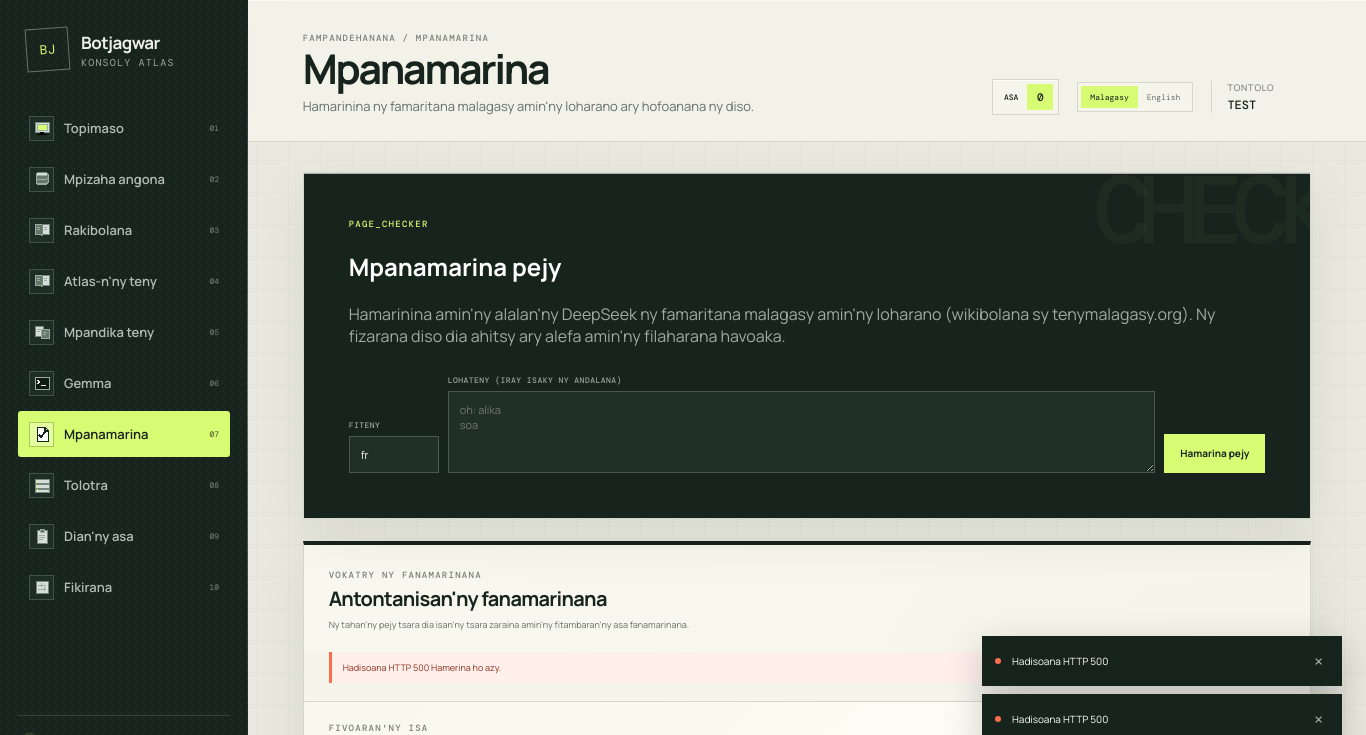
Test: App page-check route › restores a job-center target from the checker hash
Expected: the field labelled "Fiteny" holds "fr", [349,436,439,473]
Step 1. Click the button "01 Topimaso" → (124,128), box [18,105,230,151]
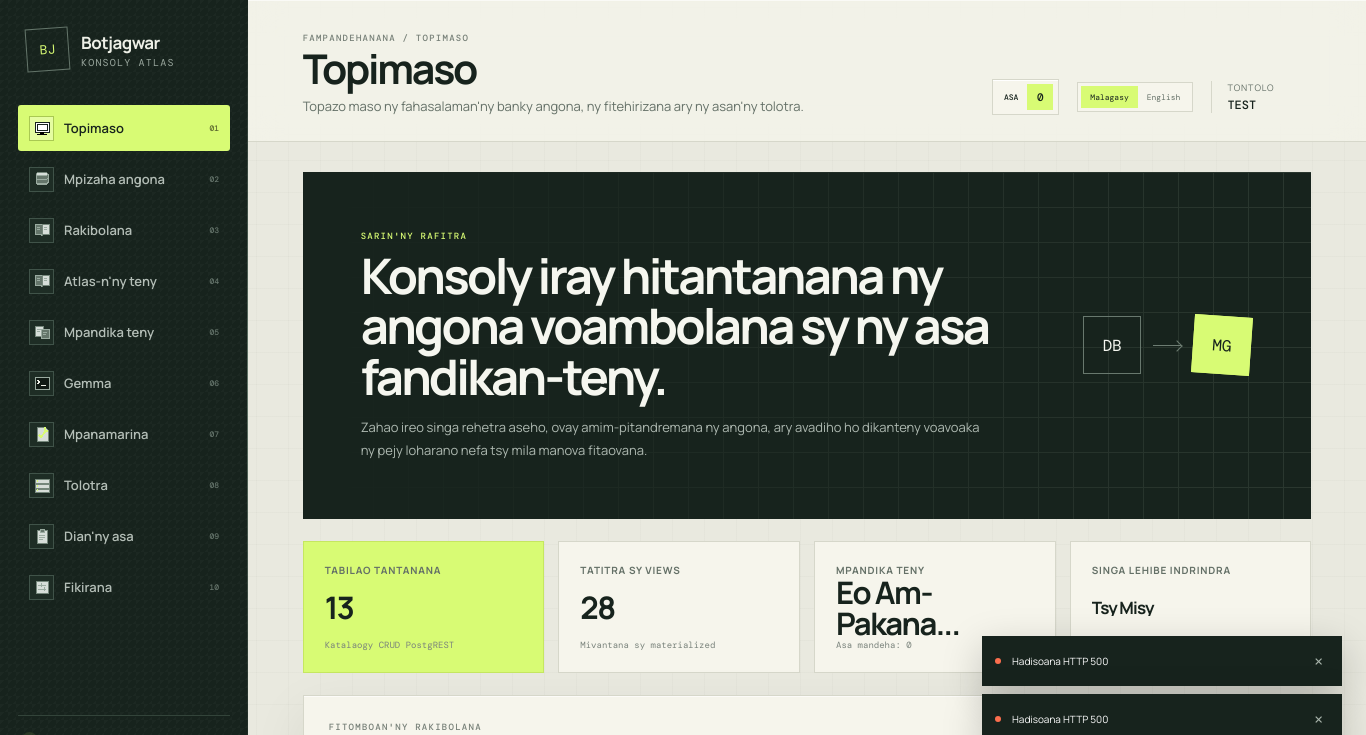
Step 2. Click the button "07 Mpanamarina" → (124,434), box [18,411,230,457]
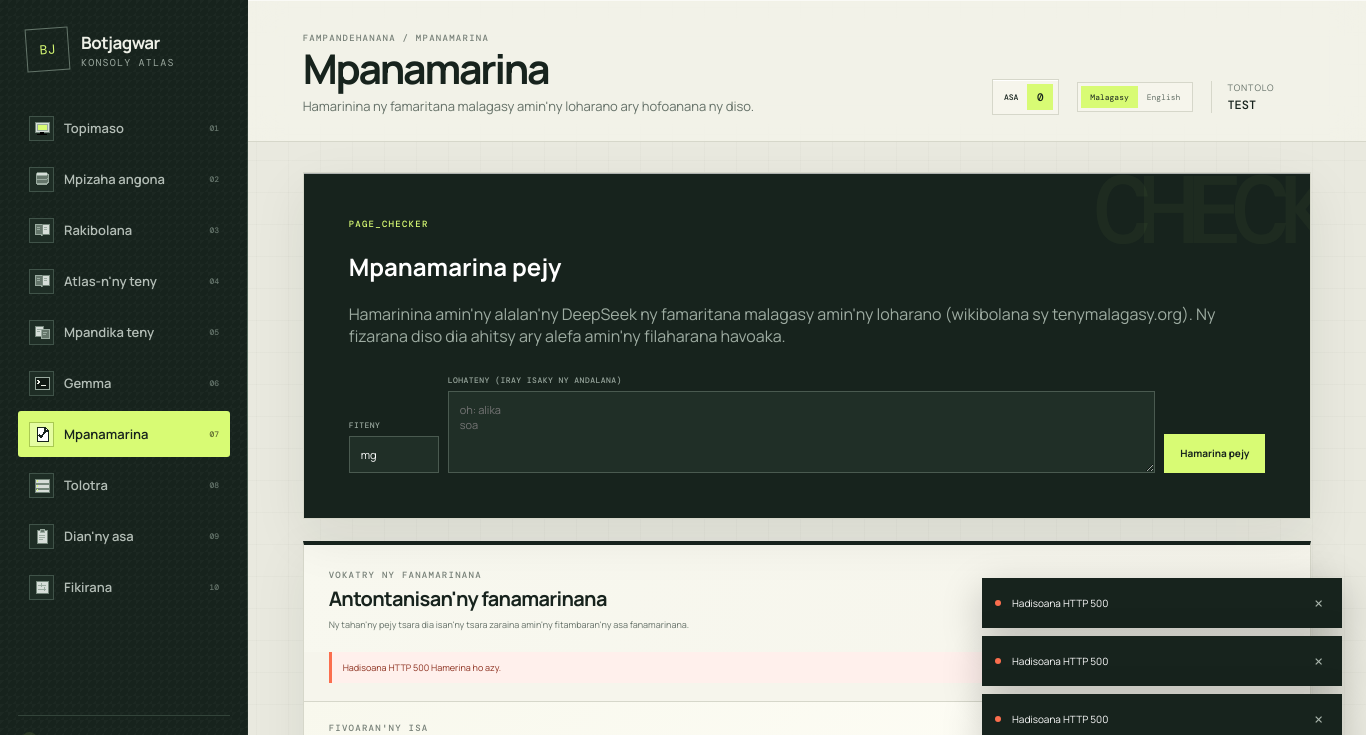
Now the field labelled "Fiteny" holds "mg", box [349,436,439,473]
